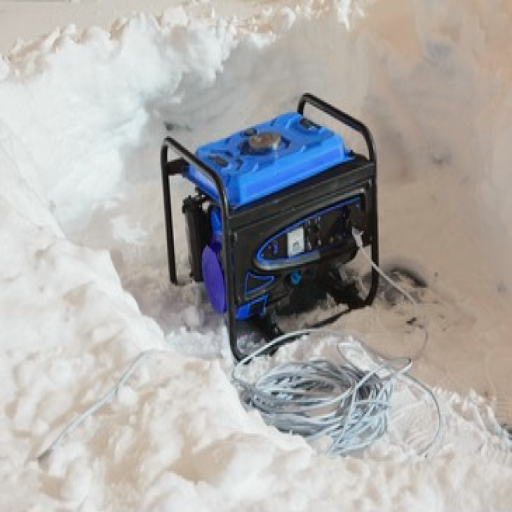portable_generator: (161, 92, 380, 363)
